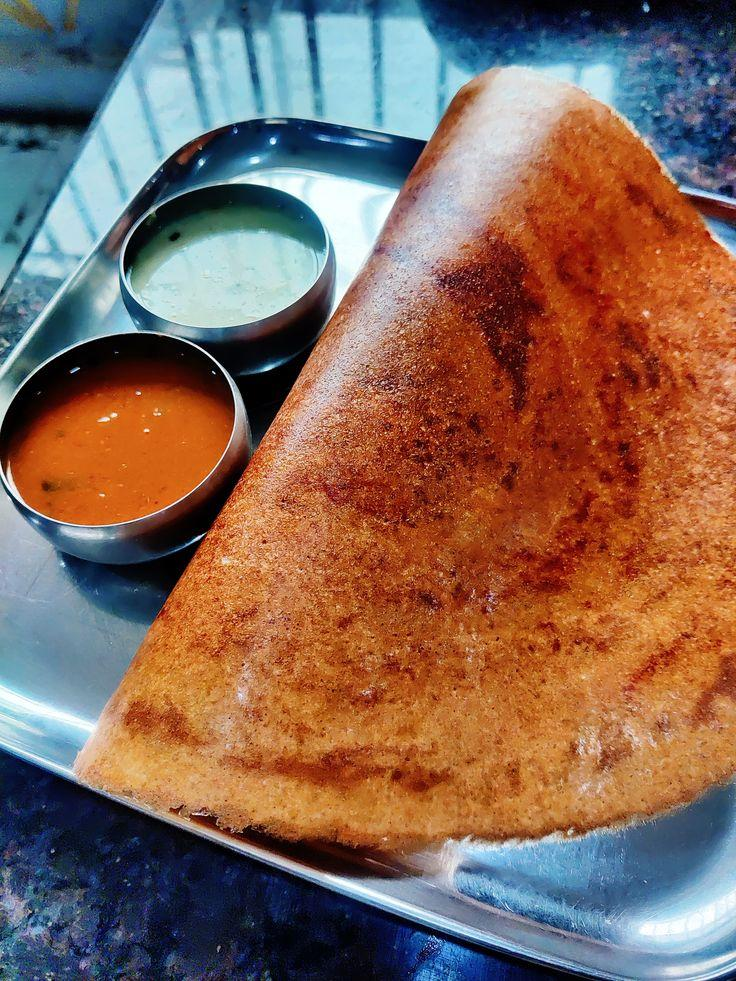dosa: (221, 75, 736, 864)
